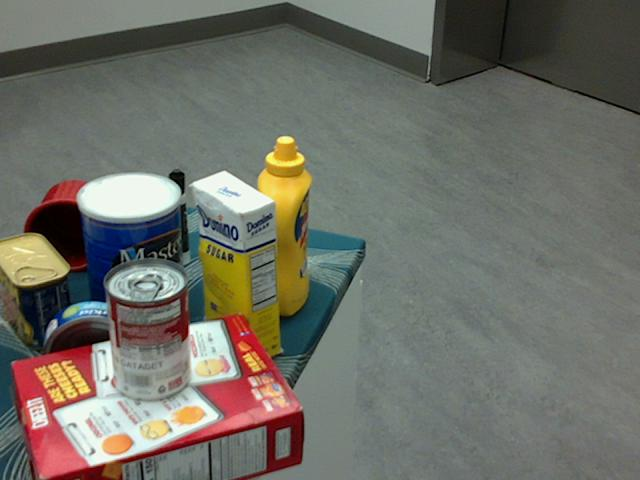cracker_box: (13, 315, 303, 479)
large_marker: (168, 168, 189, 264)
master_chef_can: (75, 172, 183, 334)
mug: (19, 180, 109, 273)
mustard_bottle: (254, 135, 310, 316)
potted_meat_can: (0, 232, 74, 349)
sugar_box: (192, 169, 280, 366)
tomato_soup_can: (102, 259, 188, 402)
tuna_fish_can: (43, 301, 138, 393)
